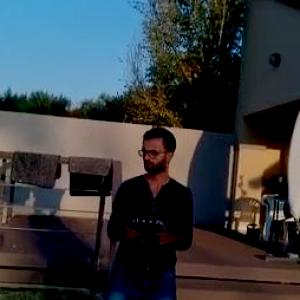follow: (97, 120, 197, 299)
